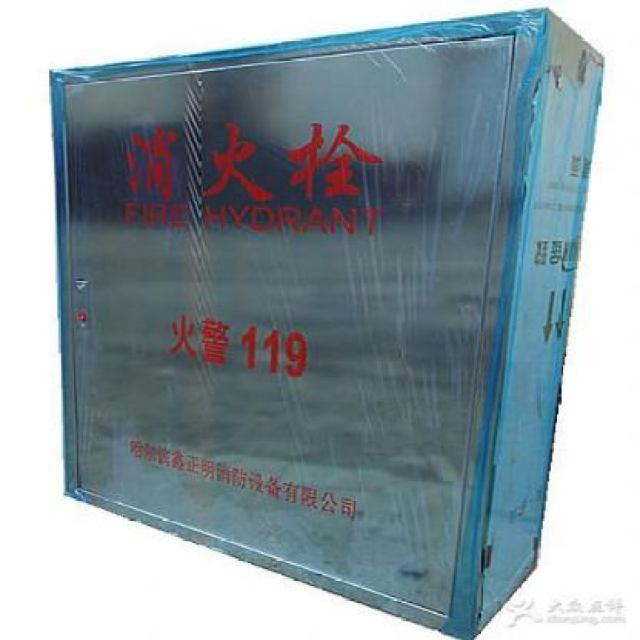firehydrant: (43, 3, 615, 640)
